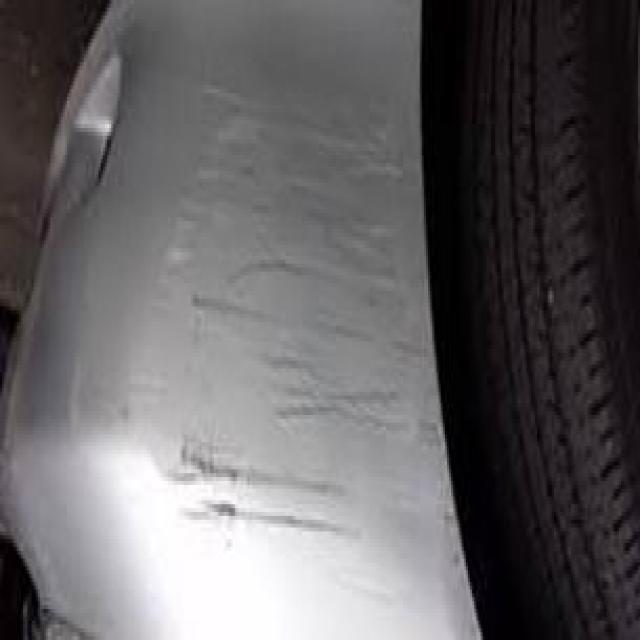scratch: (158, 87, 418, 545)
